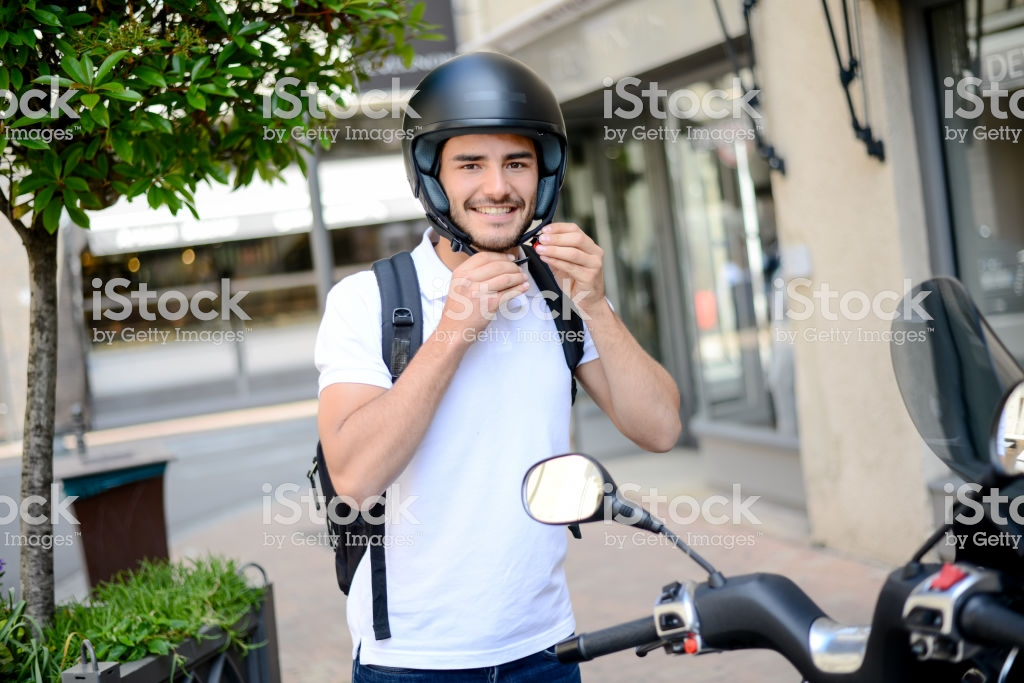helmet: (405, 57, 578, 202)
